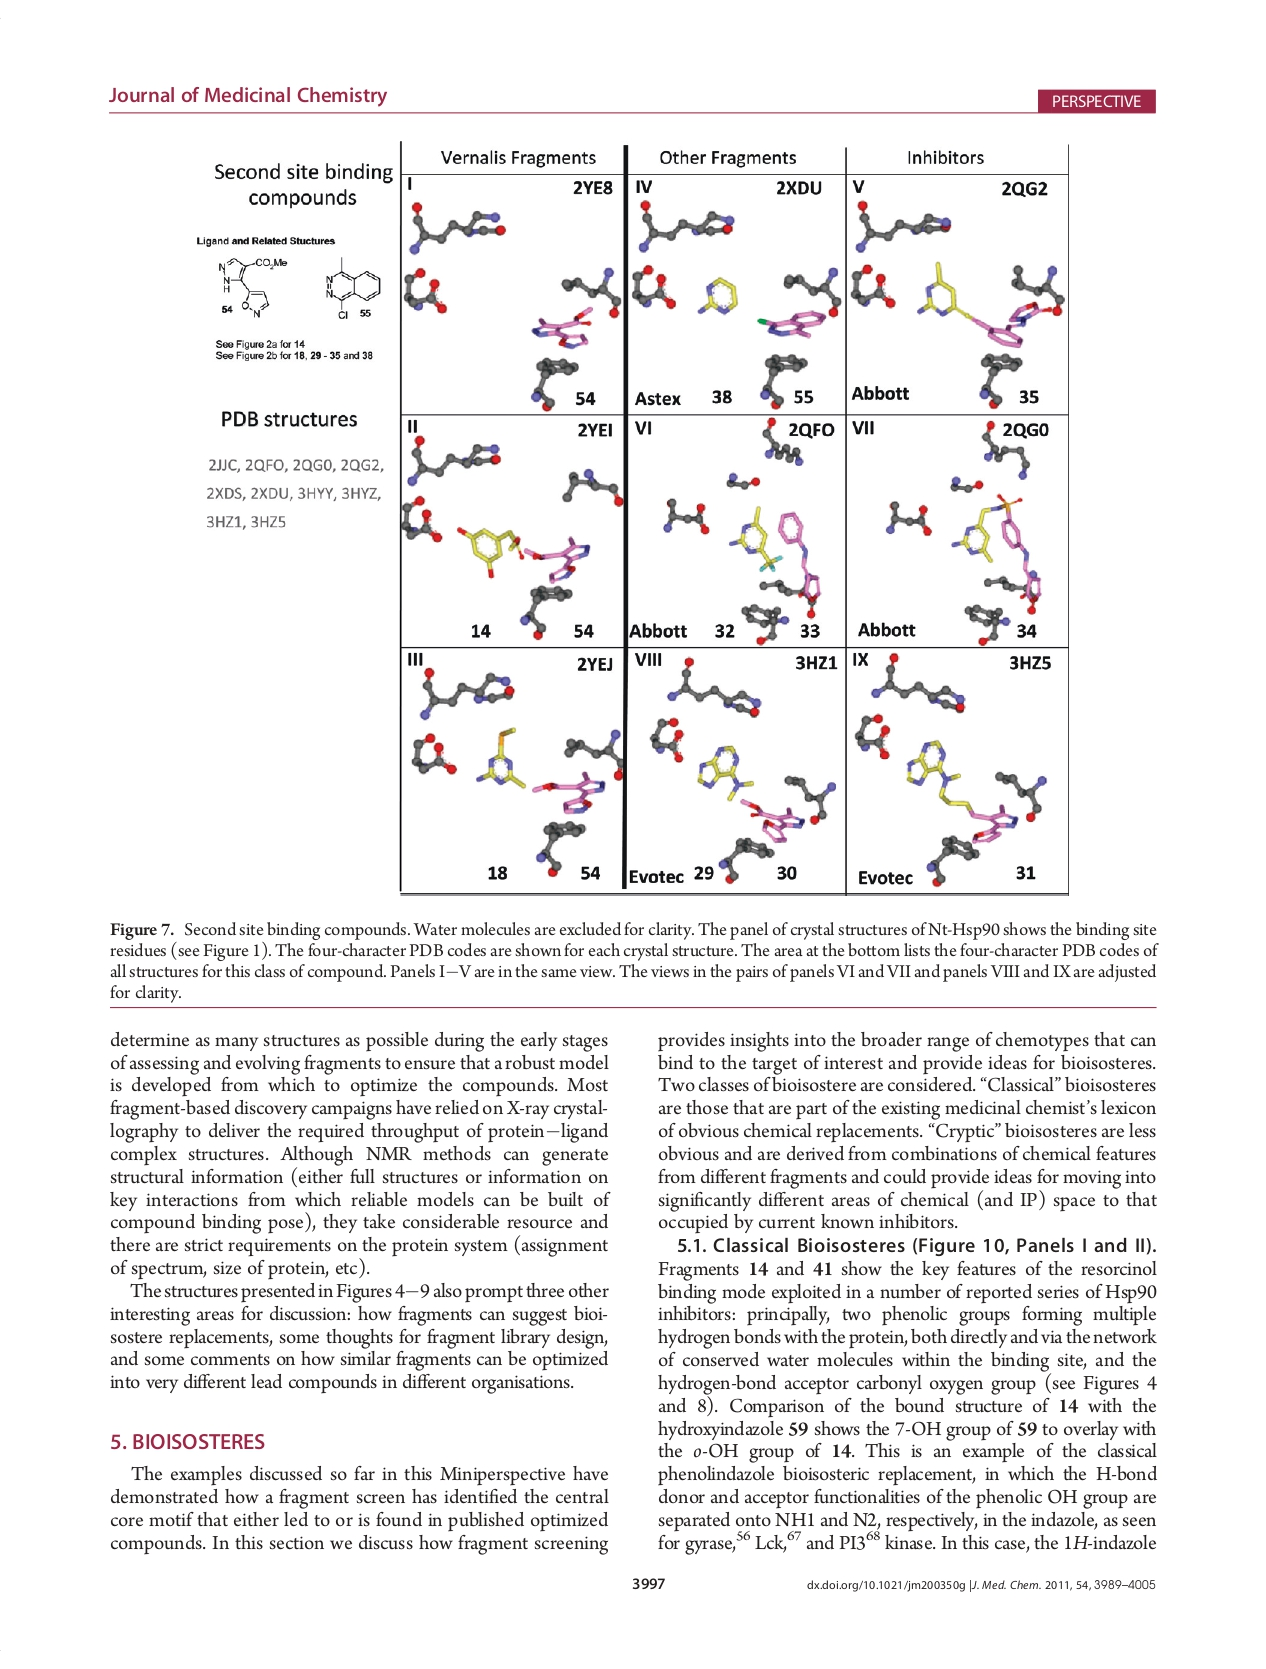exist_molecular: (213, 255, 289, 318), (319, 258, 382, 322)
